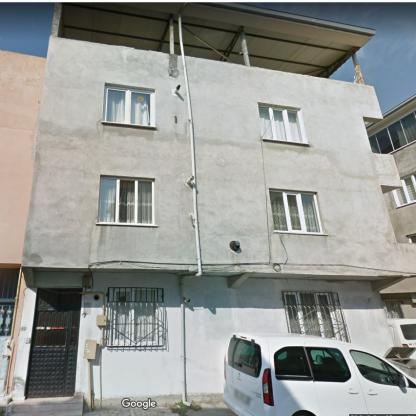door: (27, 289, 83, 397), (1, 269, 19, 394)
window: (99, 177, 153, 224), (110, 290, 156, 345), (284, 293, 339, 339), (271, 190, 319, 233), (370, 110, 415, 153), (104, 87, 153, 126), (259, 105, 304, 143), (394, 174, 415, 207), (383, 300, 402, 317)
